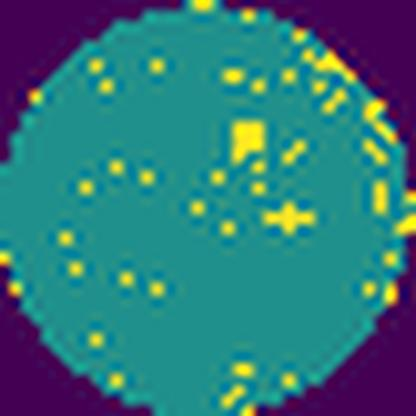Loc: (262, 203, 318, 234), (228, 119, 264, 165)
